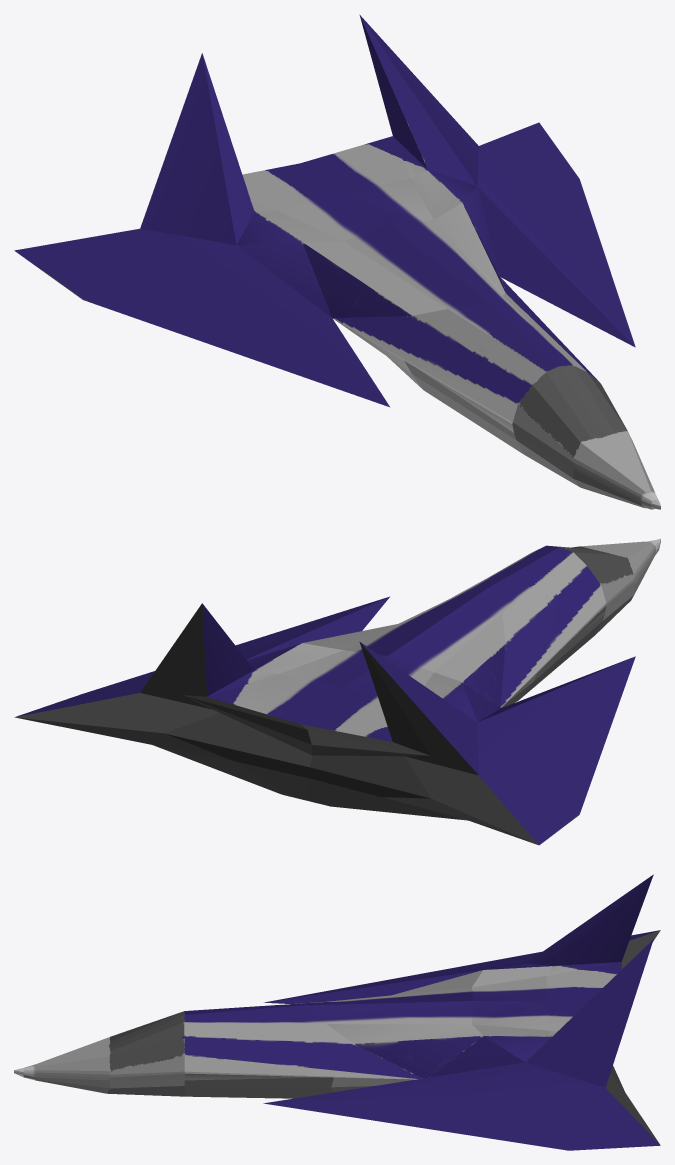
File: fighter.obj
3 renders of one model, top to bottom at view 1: azimuth 30°, elevation 25°; view 2: azimuth 150°, elevation 25°; view 3: azimuth 270°, elevation 25°, orthographic. The views are drawn at different scales.
Parts seen in each view (by area): view 1: Cube; view 2: Cube; view 3: Cube.
Part boxes in pixels (x1,y1,x2,y2): Cube: [14, 14, 660, 509]; Cube: [14, 538, 660, 845]; Cube: [14, 874, 660, 1150].
Bounding box in the file's own units: 4.15 × 1.59 × 5.26.
Materials: 1 (1 with a texture image).
